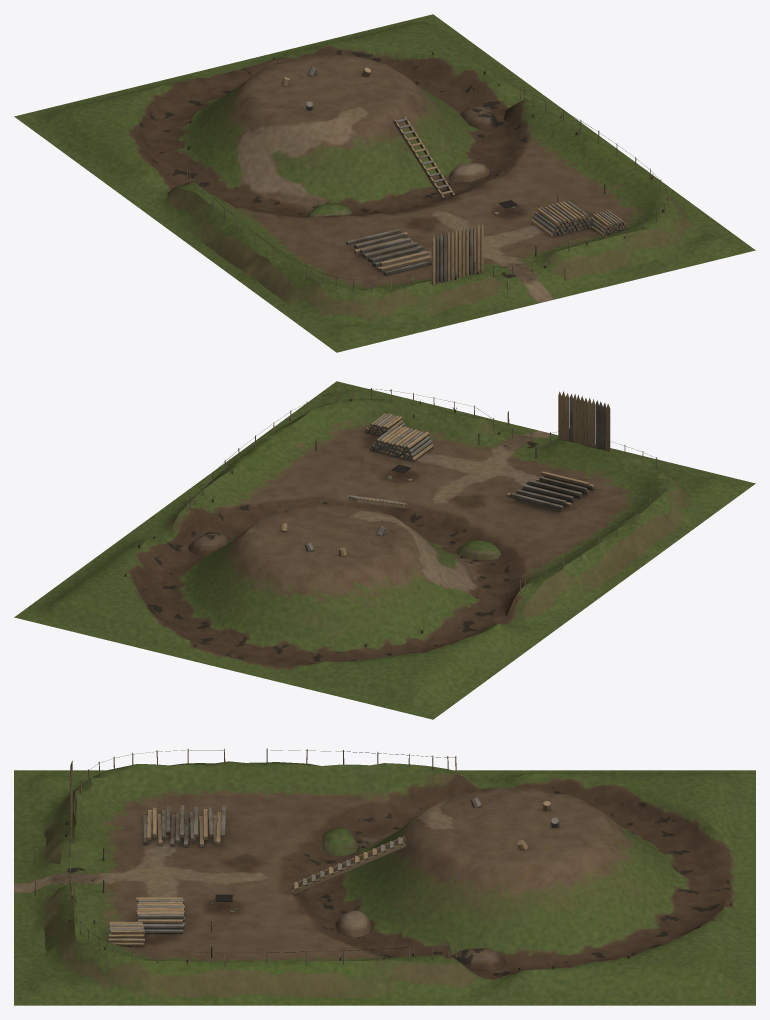
File: motte_build1.glb
3 views of the same model, one above another, from view 1: azimuth 30°, elevation 25°; view 2: azimuth 150°, elevation 25°; view 3: azimuth 270°, elevation 25° (orthographic). The views are drawn at different scales.
Visible parts, largest first — view 1: motte_build1_LOD0; view 2: motte_build1_LOD0; view 3: motte_build1_LOD0.
Part boxes in pixels (left/top/right/bottom): motte_build1_LOD0: left=14, top=14, right=755, bottom=352; motte_build1_LOD0: left=14, top=381, right=755, bottom=719; motte_build1_LOD0: left=14, top=748, right=755, bottom=1005.
Size of what is drawn, in the model's own units: 36 by 5.79 by 48.
Materials: 1 (1 with a texture image).
